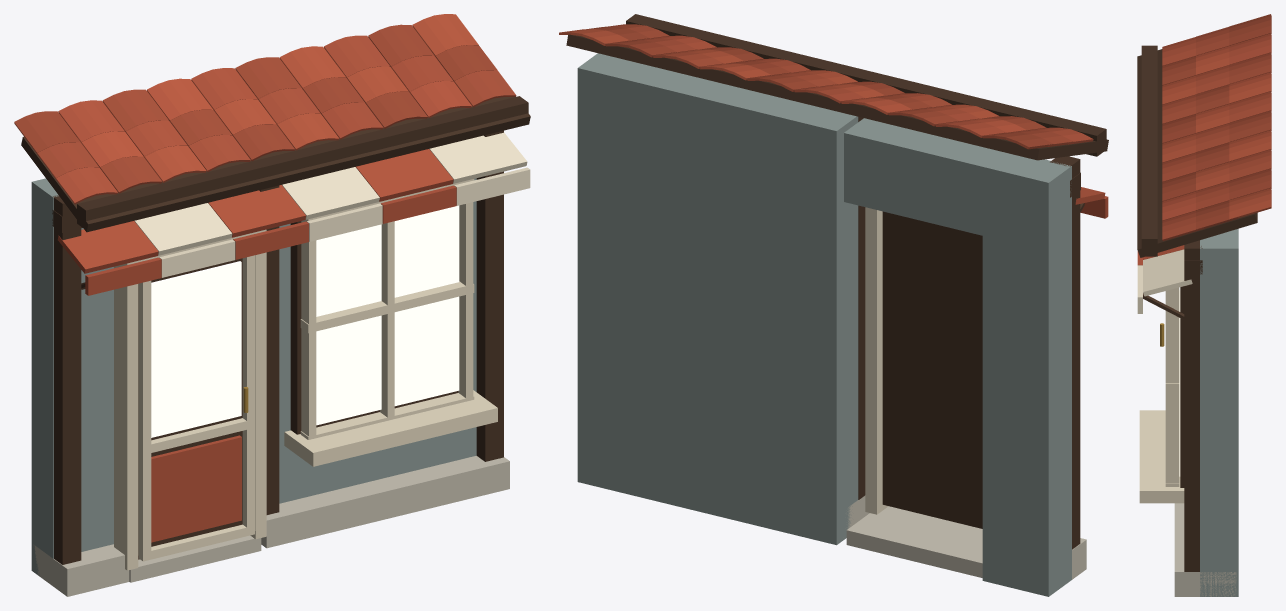
The model's file is SM_Wall_Door_L2.glb.
The picture shows the model from 3 angles, left to right: view 1: azimuth 30°, elevation 25°; view 2: azimuth 150°, elevation 25°; view 3: azimuth 270°, elevation 25°; orthographic projection. The views are drawn at different scales.
Visible parts, largest first — view 1: SM_Wall_Door_Static, SM_DoorLeaf; view 2: SM_Wall_Door_Static, SM_DoorLeaf; view 3: SM_Wall_Door_Static.
Boxes of the visible parts, box(x1,y1,x2,y2) form: SM_Wall_Door_Static: box(14, 14, 530, 596); SM_DoorLeaf: box(138, 255, 255, 561); SM_Wall_Door_Static: box(559, 14, 1108, 596); SM_DoorLeaf: box(882, 211, 982, 528); SM_Wall_Door_Static: box(1137, 14, 1271, 596).
Size of the model in its own units: 4 by 3.8 by 1.17.
